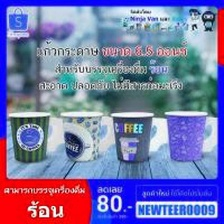paper_cup: (106, 106, 164, 165), (160, 105, 217, 164), (57, 106, 105, 164), (5, 108, 53, 165)
